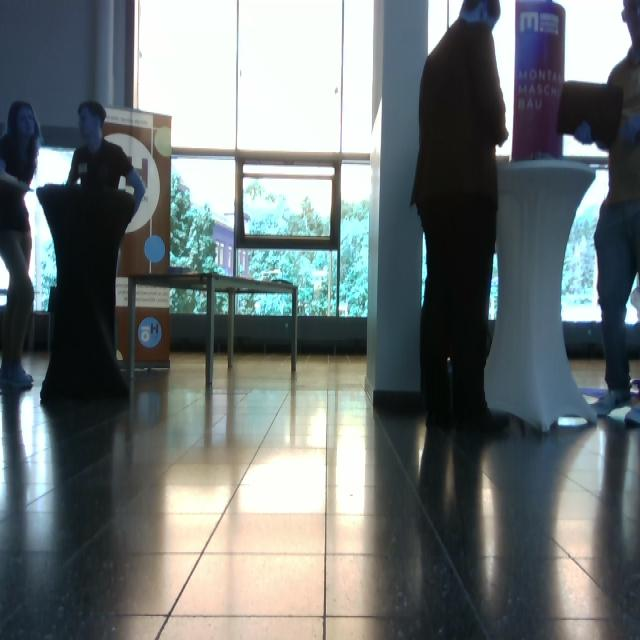light bulb: (556, 80, 624, 149)
person: (410, 1, 512, 433), (573, 1, 640, 417), (1, 100, 42, 393)
pillar: (484, 157, 599, 433), (365, 1, 429, 408)
tiled floor: (2, 348, 639, 638)
window: (132, 1, 377, 322)
